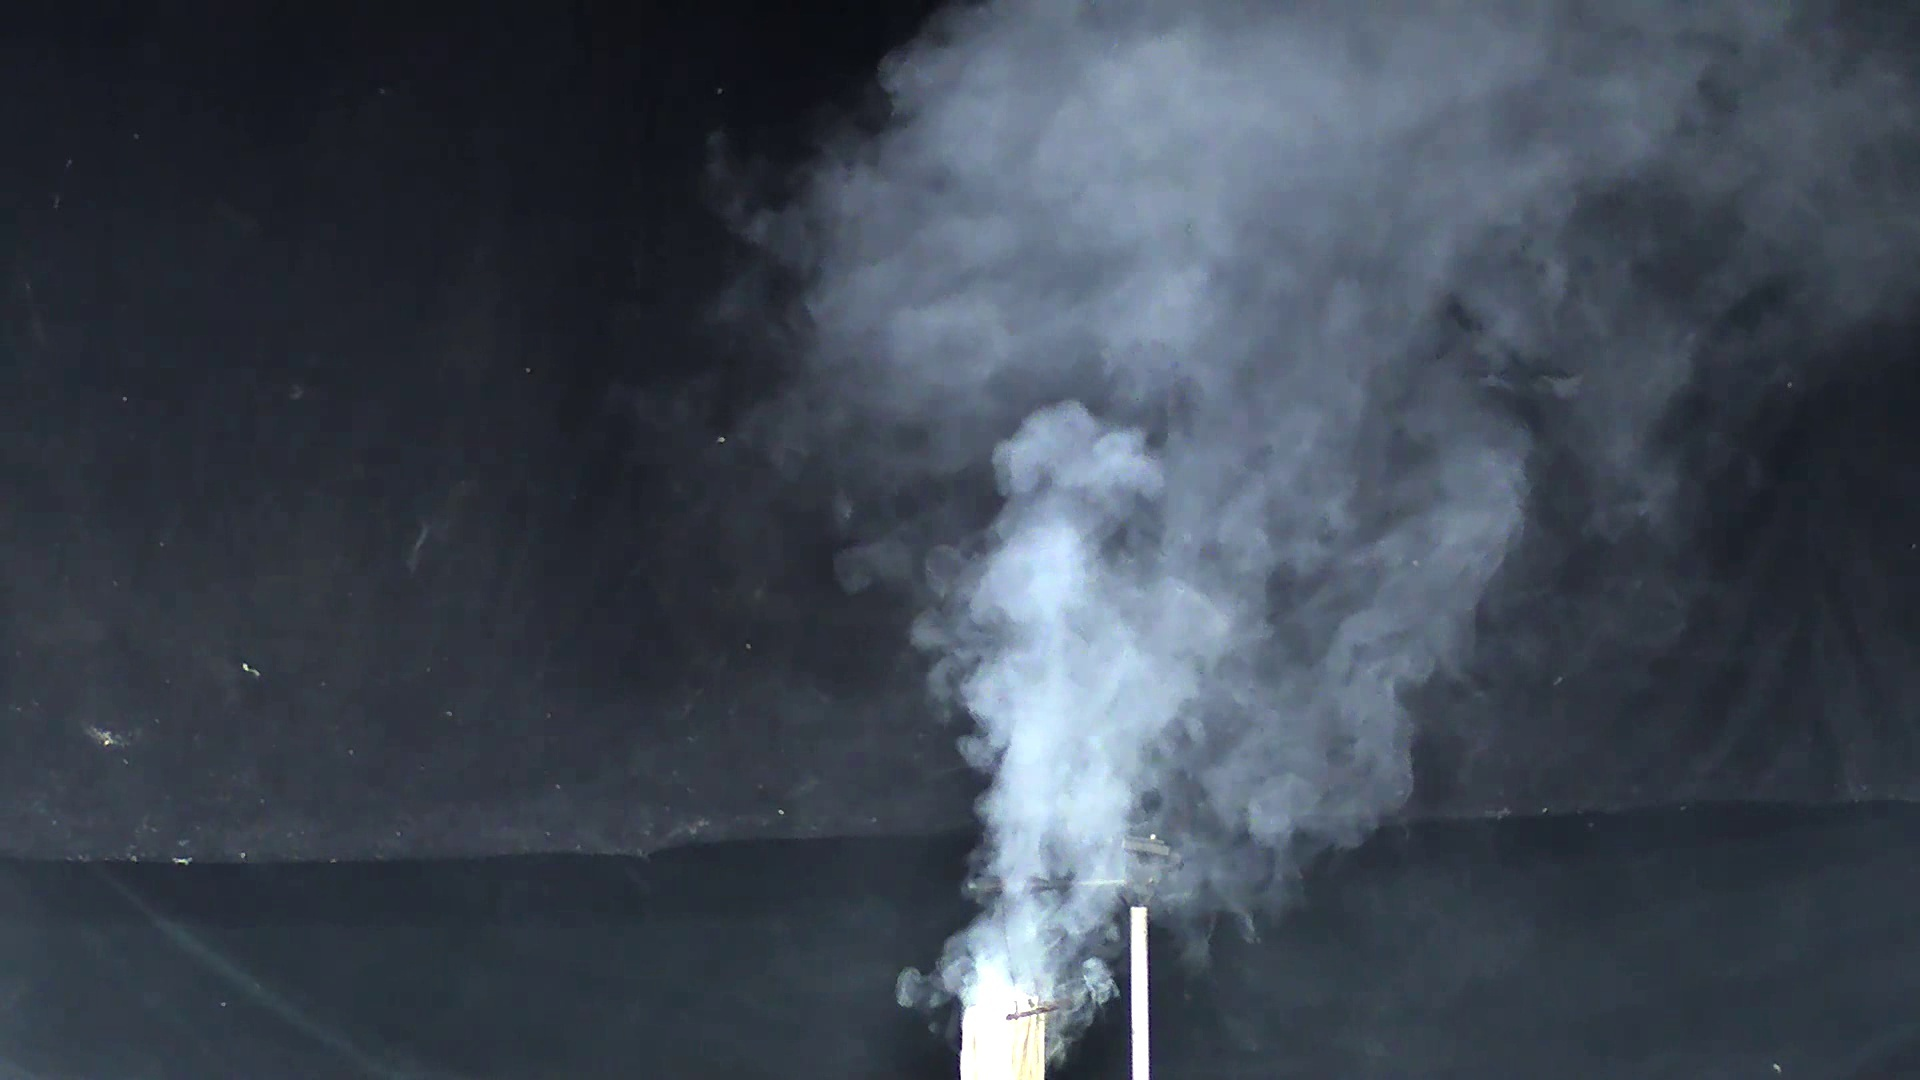smoke: (752, 22, 1808, 936)
